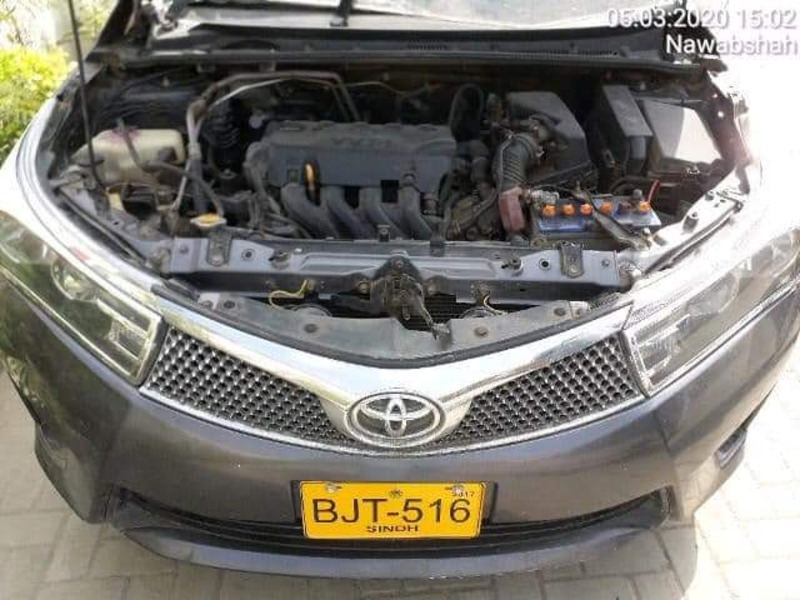License Plate: (296, 480, 489, 547)
